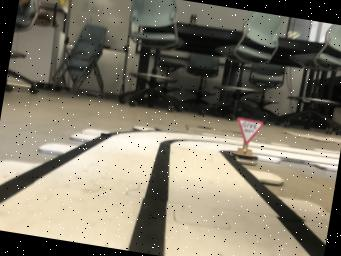give_way: (230, 117, 262, 165), (230, 117, 262, 165), (230, 117, 262, 165)
street: (0, 130, 324, 256), (0, 130, 324, 256), (0, 130, 324, 256)
